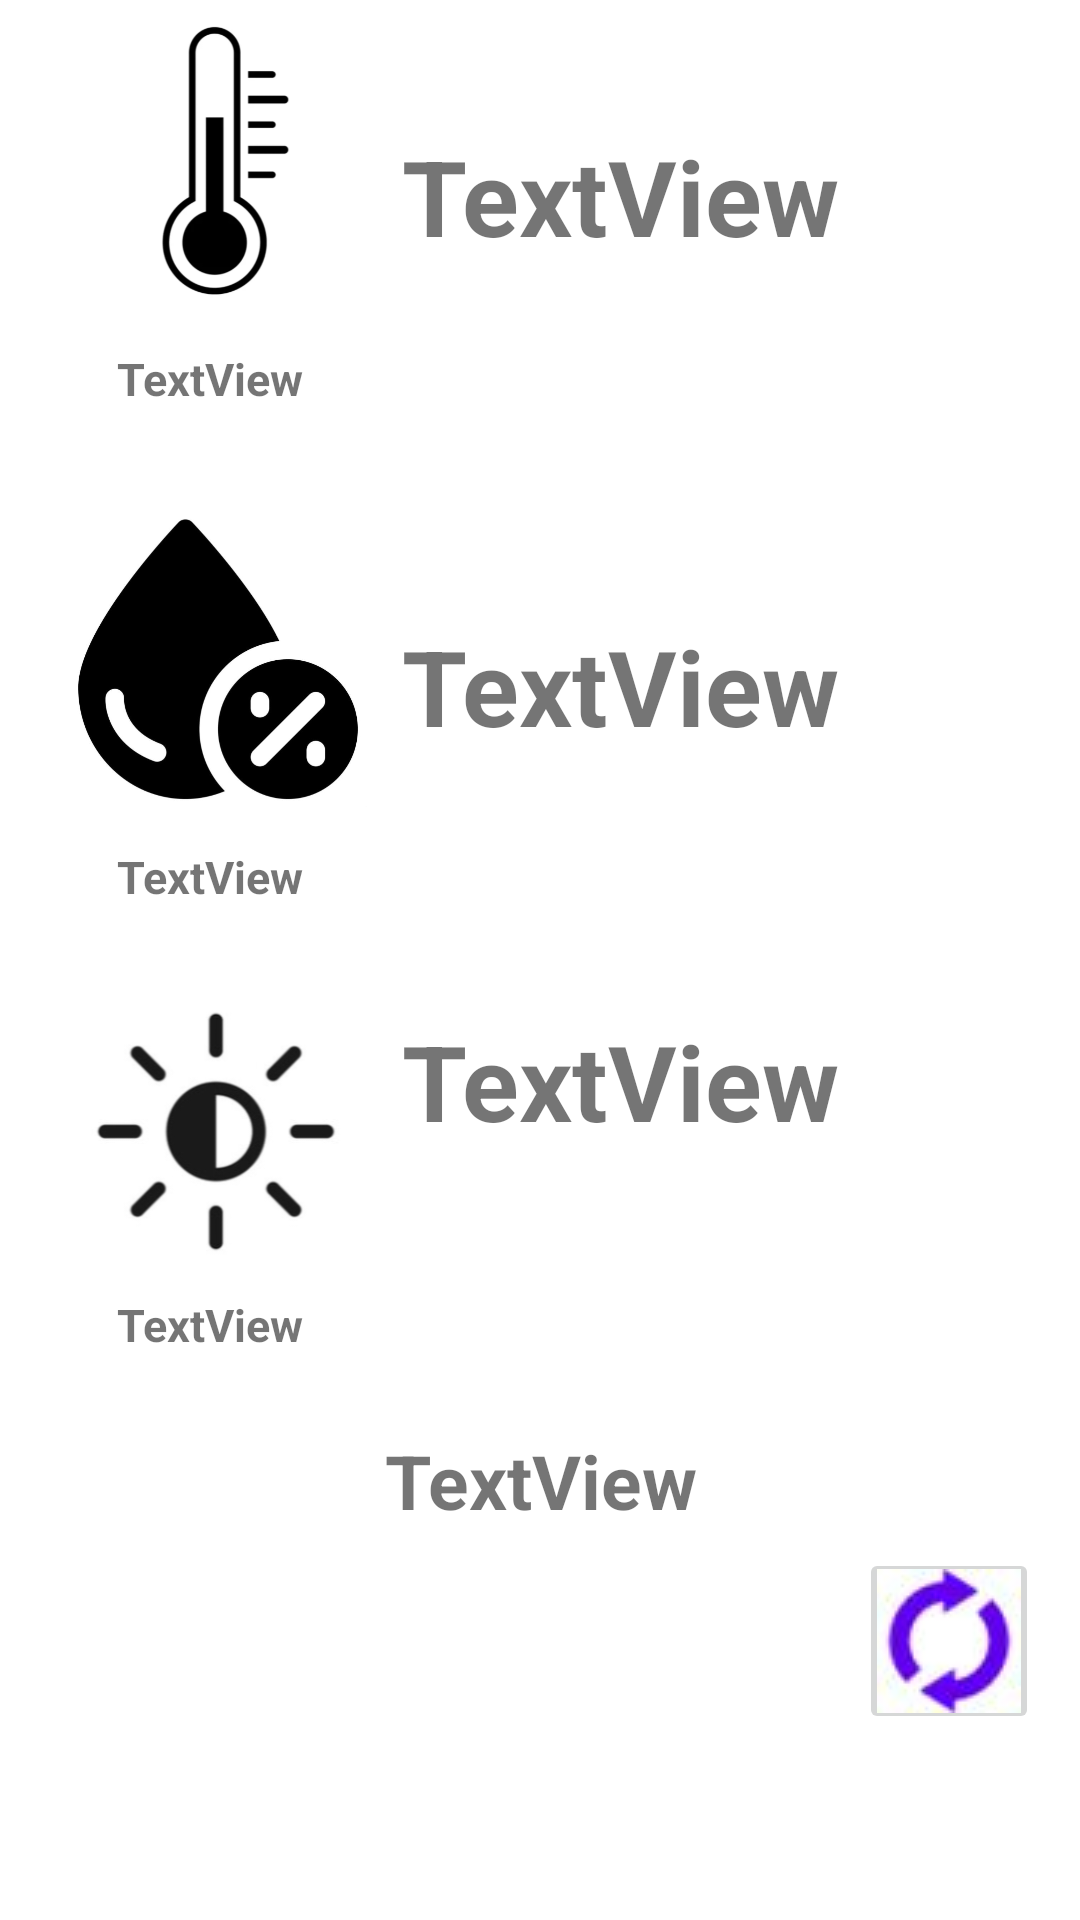

Screen size 1080 x 1920. Icon name, then its center in pixels as (x,y):
refresh: (949,1641)
